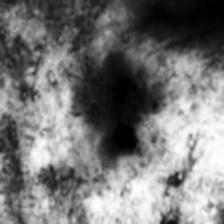Potentially Malignant Skin Tumors: (108, 120, 140, 154)
